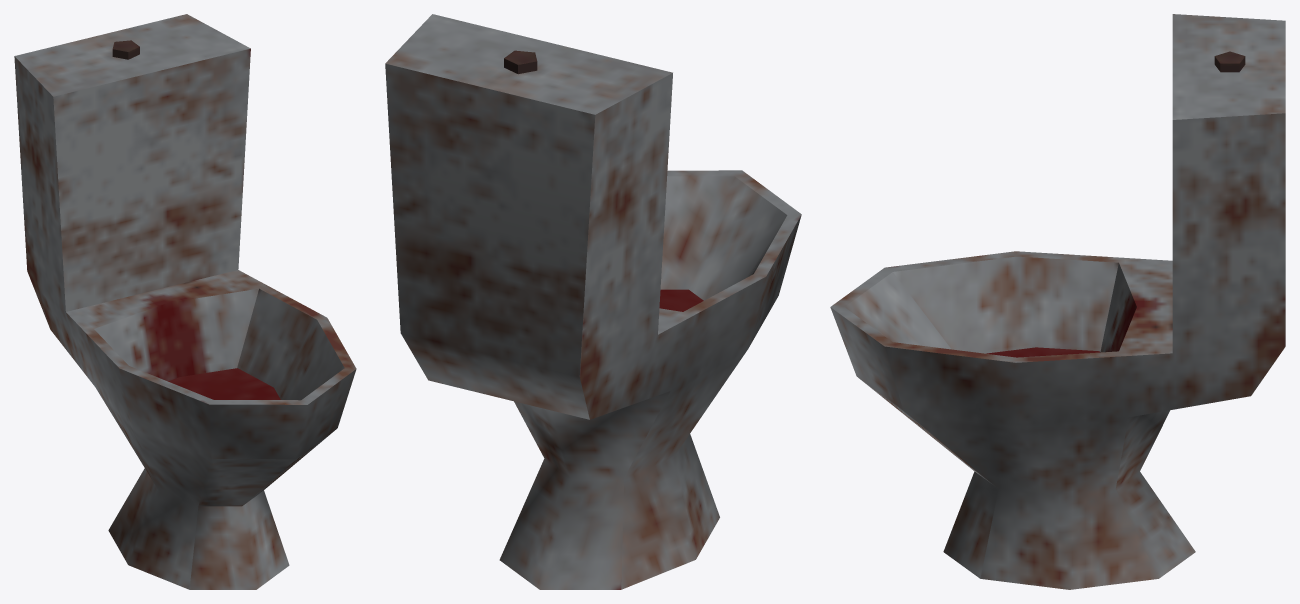
File: tolchok.fbx
3 views of the same model, side by side, from view 1: azimuth 30°, elevation 25°; view 2: azimuth 150°, elevation 25°; view 3: azimuth 270°, elevation 25° (orthographic). The views are drawn at different scales.
Parts seen in each view (by area): view 1: Circle.002, Circle.004, Circle.003; view 2: Circle.002, Circle.004, Circle.003; view 3: Circle.002, Circle.004.
Part boxes in pixels (x1,y1,x2,y2): Circle.002: [14, 14, 356, 589]; Circle.004: [168, 368, 280, 399]; Circle.003: [112, 40, 139, 59]; Circle.002: [385, 14, 801, 589]; Circle.004: [659, 289, 703, 311]; Circle.003: [504, 50, 537, 74]; Circle.002: [830, 14, 1285, 589]; Circle.004: [986, 347, 1100, 357].
Bounding box in the file's own units: 56.83 × 117 × 98.03.
1 material, 1 textured.
